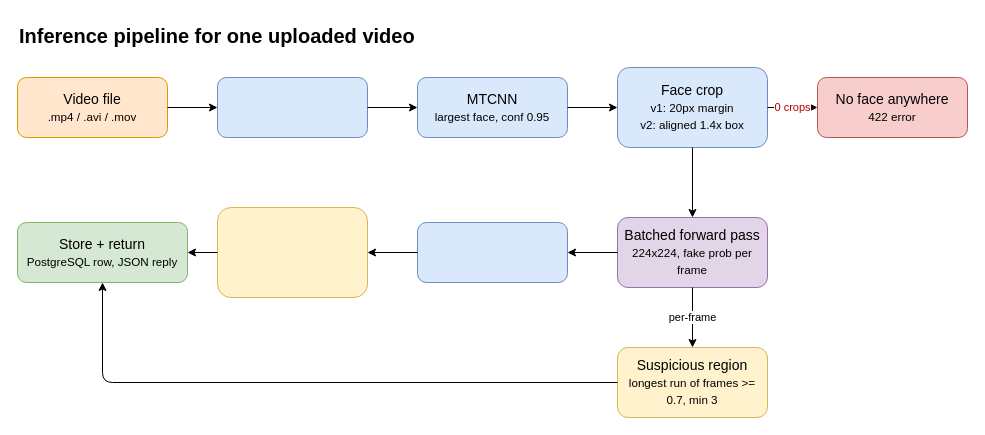
This 985x435 diagram has some shape labels left out. Here are the shapes that lost their labels. From the top down, the centre of each, then its label:
At point 292,107: "Sample frames ~5 fps, max 100".
At point 292,252: "Risk bands <0.4 REAL 0.4 to 0.7 SUSPICIOUS >0.7 HIGH_RISK".
At point 492,252: "Mean of frames video score".
